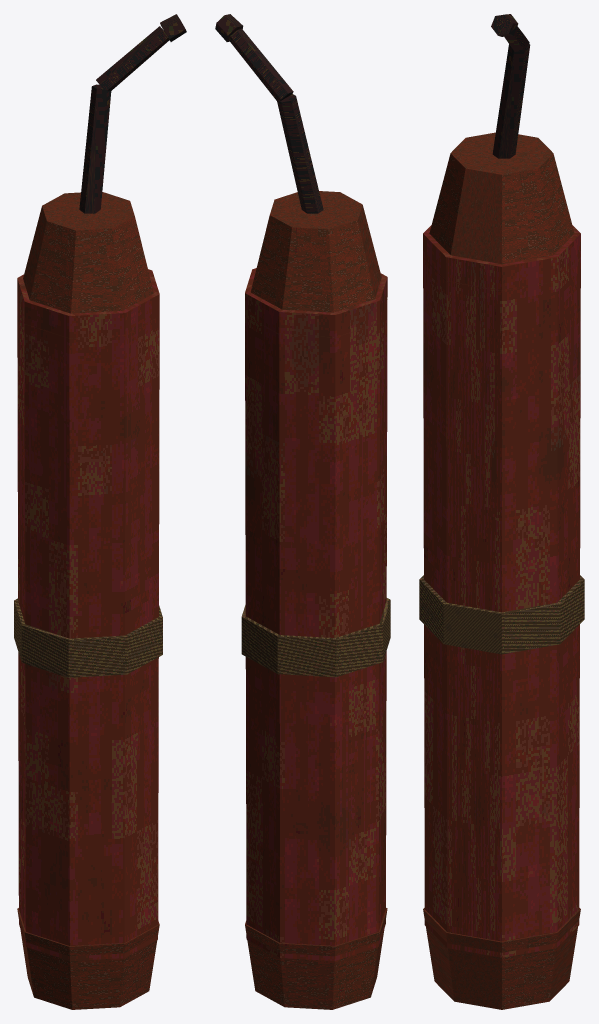
The model's file is FieldDynamite.glb.
The picture shows the model from 3 angles, left to right: view 1: azimuth 30°, elevation 25°; view 2: azimuth 150°, elevation 25°; view 3: azimuth 270°, elevation 25°; orthographic projection. The views are drawn at different scales.
Parts seen in each view (by area): view 1: FieldDynamite; view 2: FieldDynamite; view 3: FieldDynamite.
Boxes of the visible parts, <box> form: FieldDynamite: <box>14,14,186,1009</box>; FieldDynamite: <box>215,14,390,1009</box>; FieldDynamite: <box>419,14,584,1009</box>.
Size of the model in its own units: 0.0458 by 0.2522 by 0.0372.
1 material, 1 textured.
